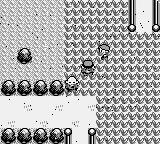captura: (64, 0, 160, 143)
main: (81, 60, 95, 74)
no-caminable: (1, 80, 64, 96), (1, 128, 64, 143), (17, 48, 32, 64)
npc: (65, 77, 79, 90), (98, 45, 110, 58)
